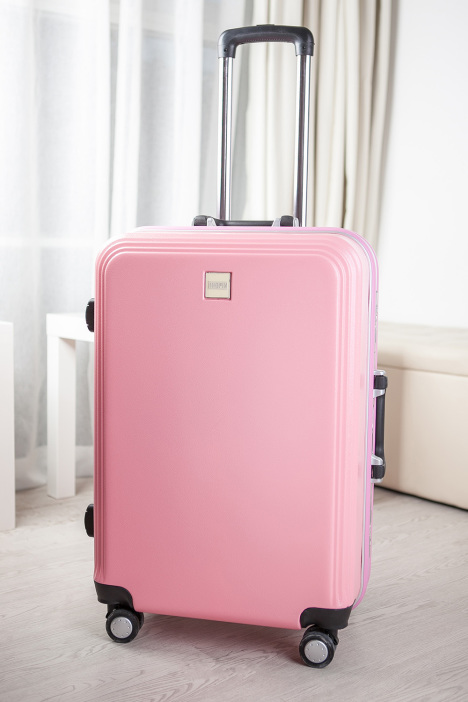suitcase: (82, 22, 393, 668)
